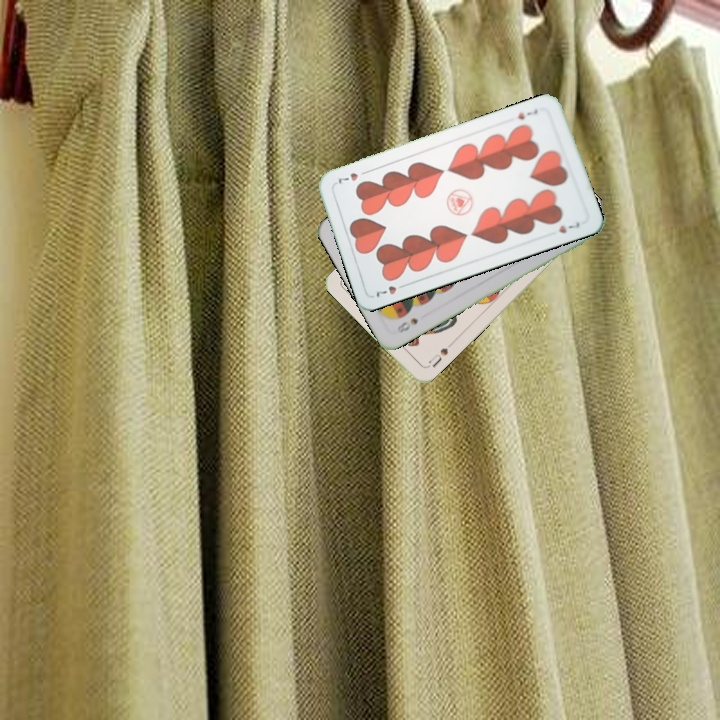H7: (372, 280, 410, 300), (514, 105, 540, 122)
S8: (393, 314, 420, 336)
SU: (422, 339, 455, 371)
